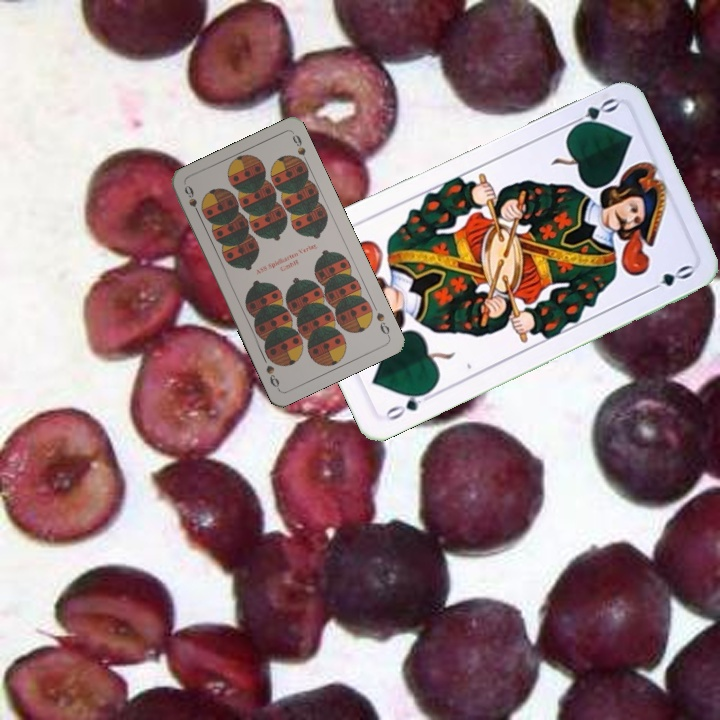GO: (564, 93, 621, 133), (381, 386, 434, 423)
S9: (180, 181, 204, 220), (372, 308, 393, 340)
